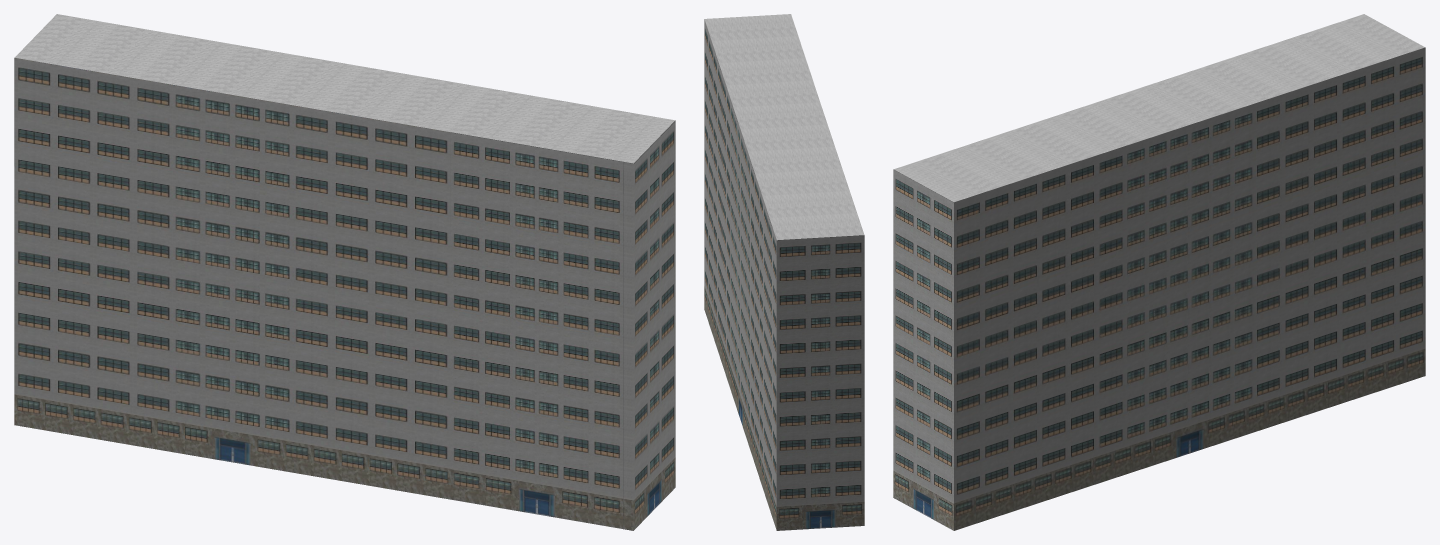
3 renders of one model, left to right at view 1: azimuth 30°, elevation 25°; view 2: azimuth 150°, elevation 25°; view 3: azimuth 270°, elevation 25°, orthographic. The views are drawn at different scales.
Parts seen in each view (by area): view 1: BuildingMaster_1974194098244464054200000000_0, BuildingMaster_1974194098244464054200000000_1; view 2: BuildingMaster_1974194098244464054200000000_0, BuildingMaster_1974194098244464054200000000_1; view 3: BuildingMaster_1974194098244464054200000000_0, BuildingMaster_1974194098244464054200000000_1.
Boxes of the visible parts, left/top/right/bottom form: BuildingMaster_1974194098244464054200000000_0: left=14, top=58, right=675, bottom=530; BuildingMaster_1974194098244464054200000000_1: left=14, top=14, right=674, bottom=163; BuildingMaster_1974194098244464054200000000_0: left=704, top=19, right=864, bottom=530; BuildingMaster_1974194098244464054200000000_1: left=704, top=14, right=864, bottom=240; BuildingMaster_1974194098244464054200000000_0: left=893, top=47, right=1425, bottom=530; BuildingMaster_1974194098244464054200000000_1: left=894, top=14, right=1424, bottom=202.
Size of the model in its own units: 51.64 by 42 by 61.63.
Materials: 2 (2 with a texture image).
